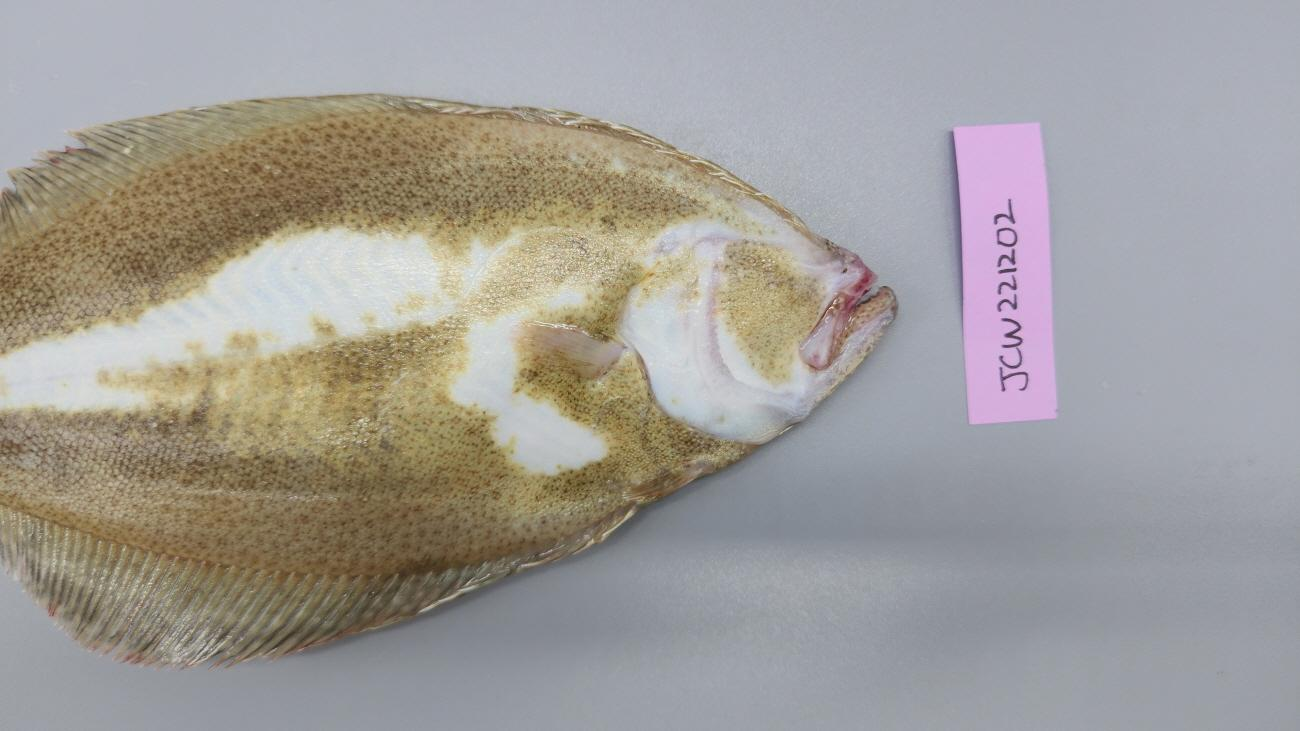VIMOU: (844, 270, 878, 314)
